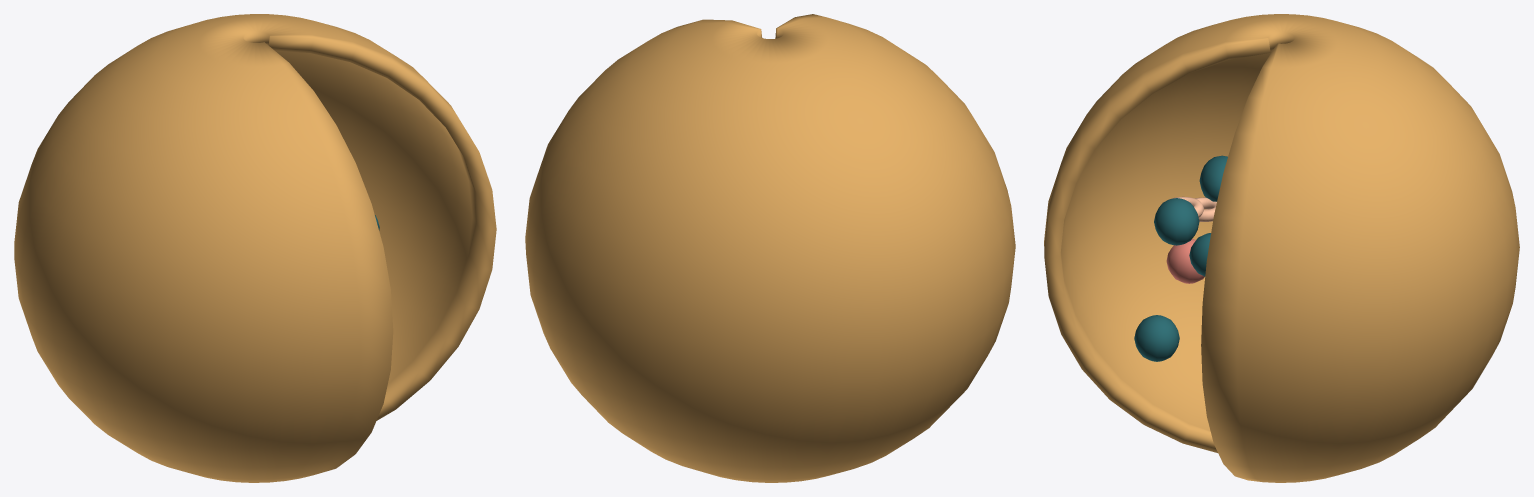
The model's file is lysosome.glb.
The picture shows the model from 3 angles, left to right: view 1: azimuth 30°, elevation 25°; view 2: azimuth 150°, elevation 25°; view 3: azimuth 270°, elevation 25°; orthographic projection.
Parts seen in each view (by area): view 1: single-membrane; view 2: single-membrane; view 3: single-membrane, digested-cargo, digested-cargo.001, hydrolytic-enzymes.
Boxes of the visible parts, x1,y1,x2,y2 form: single-membrane: (14, 14, 496, 482); single-membrane: (525, 14, 1015, 482); single-membrane: (1044, 14, 1519, 482); digested-cargo: (1134, 155, 1227, 361); digested-cargo.001: (1166, 239, 1204, 283); hydrolytic-enzymes: (1171, 196, 1216, 221).
Size of the model in its own units: 4.28 by 4.07 by 4.17.
